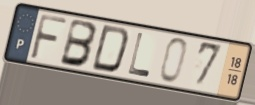0: (157, 36, 191, 86)
7: (194, 39, 226, 91)
B: (58, 17, 100, 69)
D: (89, 23, 132, 75)
F: (28, 12, 69, 63)
L: (126, 31, 152, 79)
